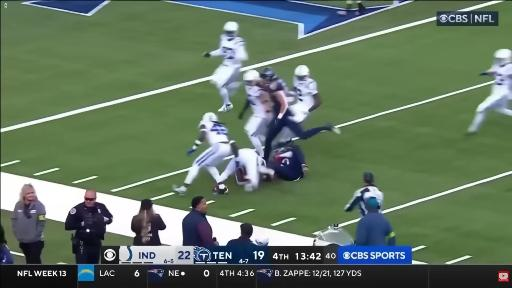Helmet: (224, 22, 238, 37), (243, 70, 259, 83), (494, 49, 511, 61), (295, 65, 309, 78), (260, 67, 275, 79), (203, 113, 217, 121)
Jersey: (259, 78, 288, 115), (272, 148, 303, 181), (220, 35, 246, 67), (200, 121, 229, 146), (294, 77, 318, 107), (492, 62, 512, 95), (246, 86, 266, 116)
Player: (259, 68, 340, 162), (173, 113, 238, 195), (204, 22, 247, 111), (468, 49, 511, 134), (239, 70, 271, 156), (220, 149, 274, 191), (290, 65, 322, 122), (271, 144, 308, 181), (346, 0, 365, 15)
